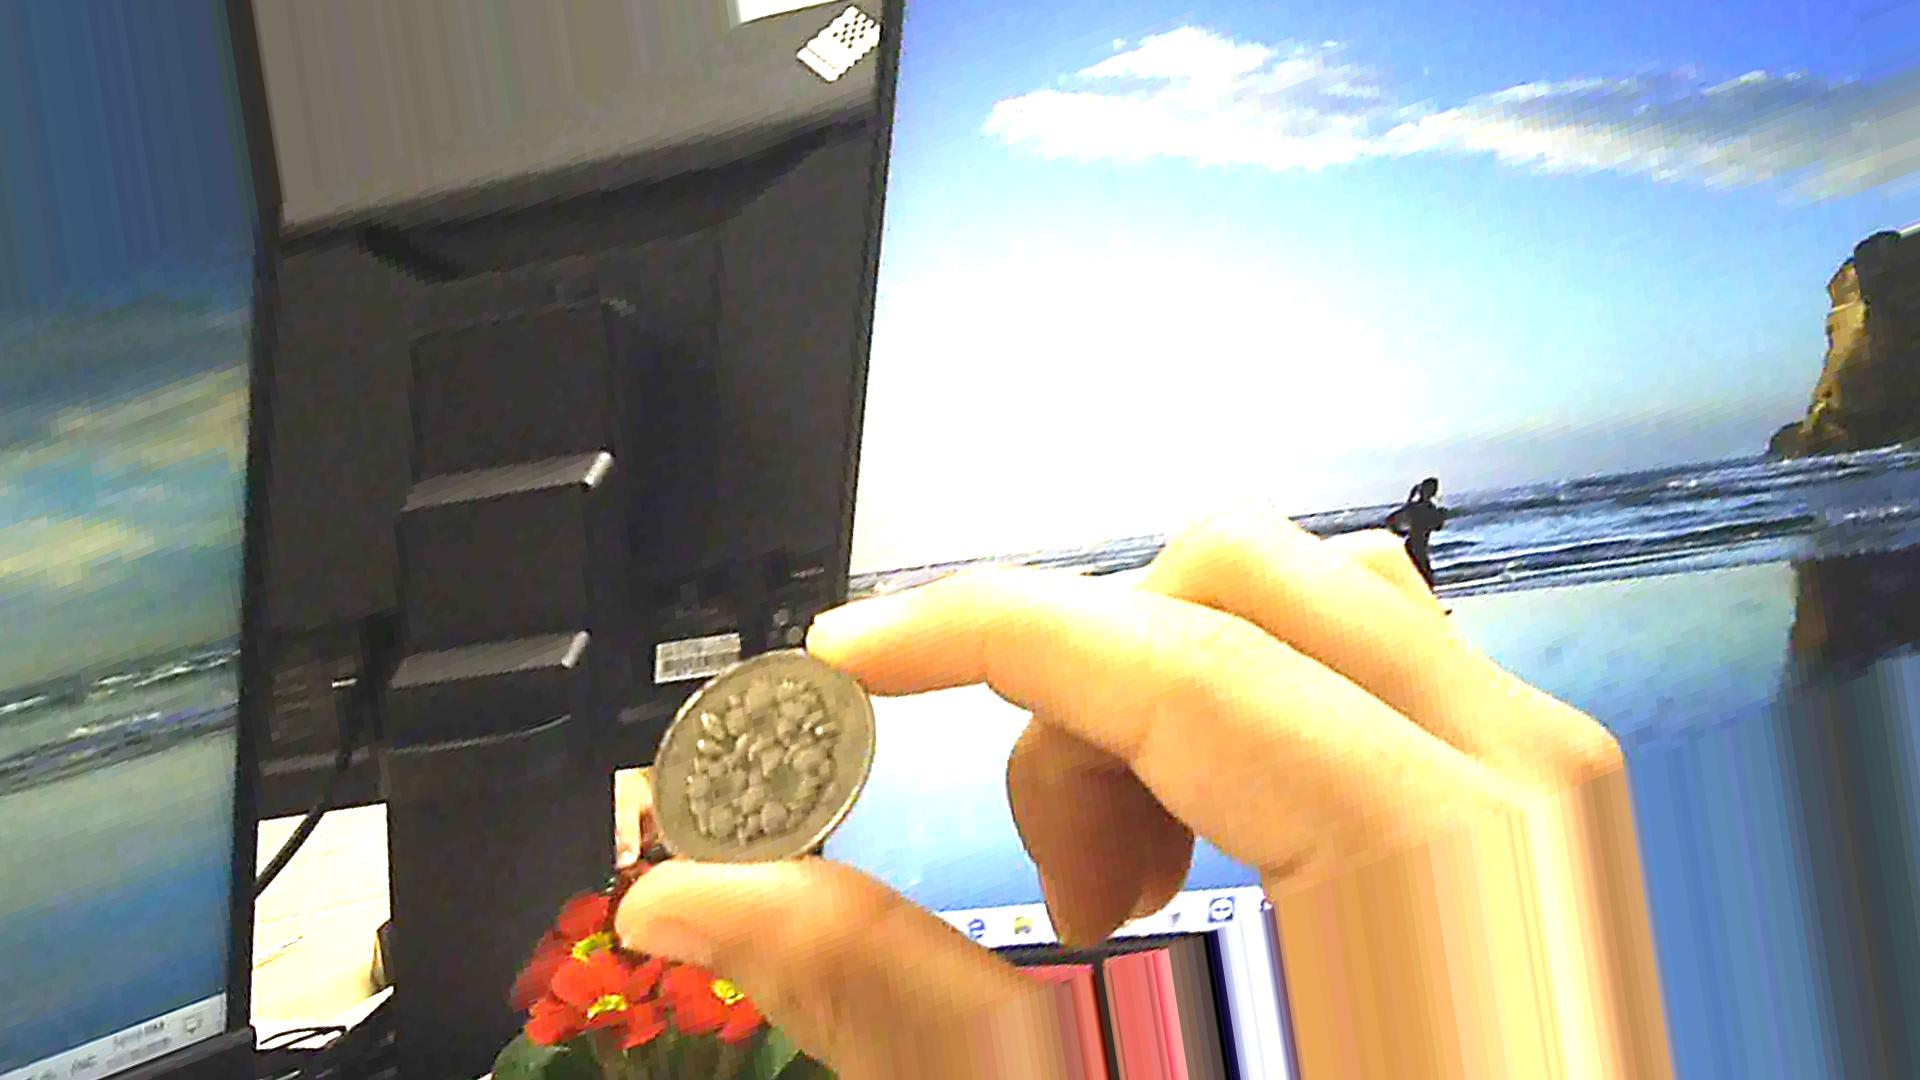100 Yen: (647, 618, 872, 872)
